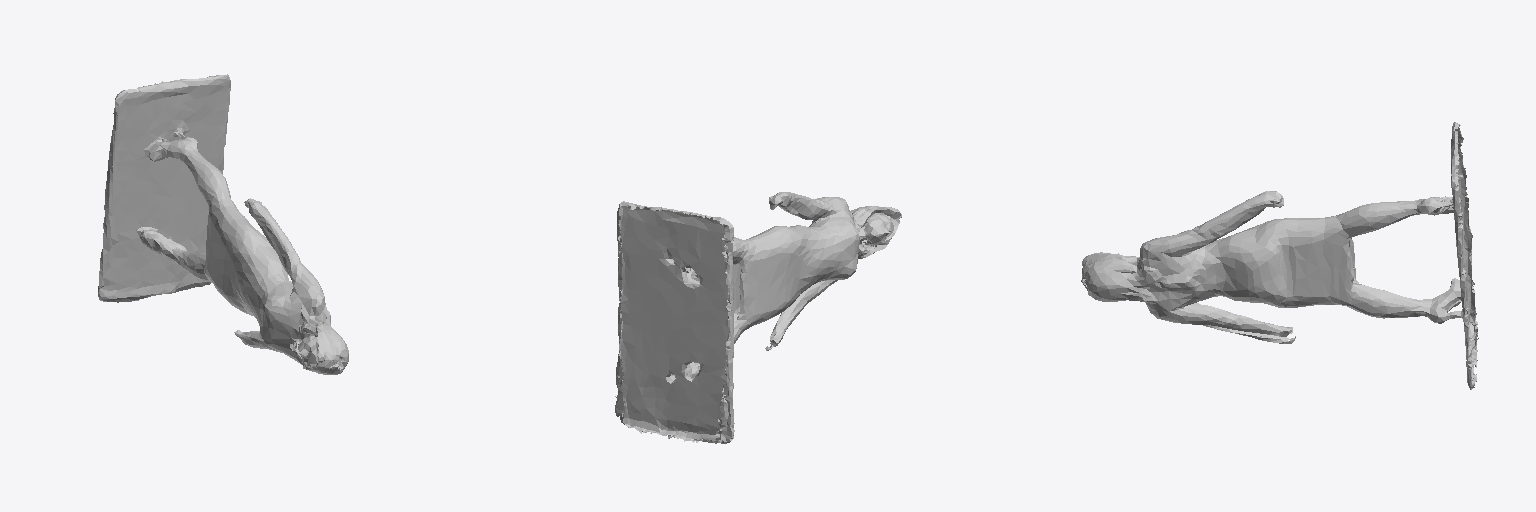
File: sveta2.obj
3 renders of one model, left to right at view 1: azimuth 30°, elevation 25°; view 2: azimuth 150°, elevation 25°; view 3: azimuth 270°, elevation 25°, orthographic.
Size of the model in its own units: 0.6343 by 1.1 by 1.76.